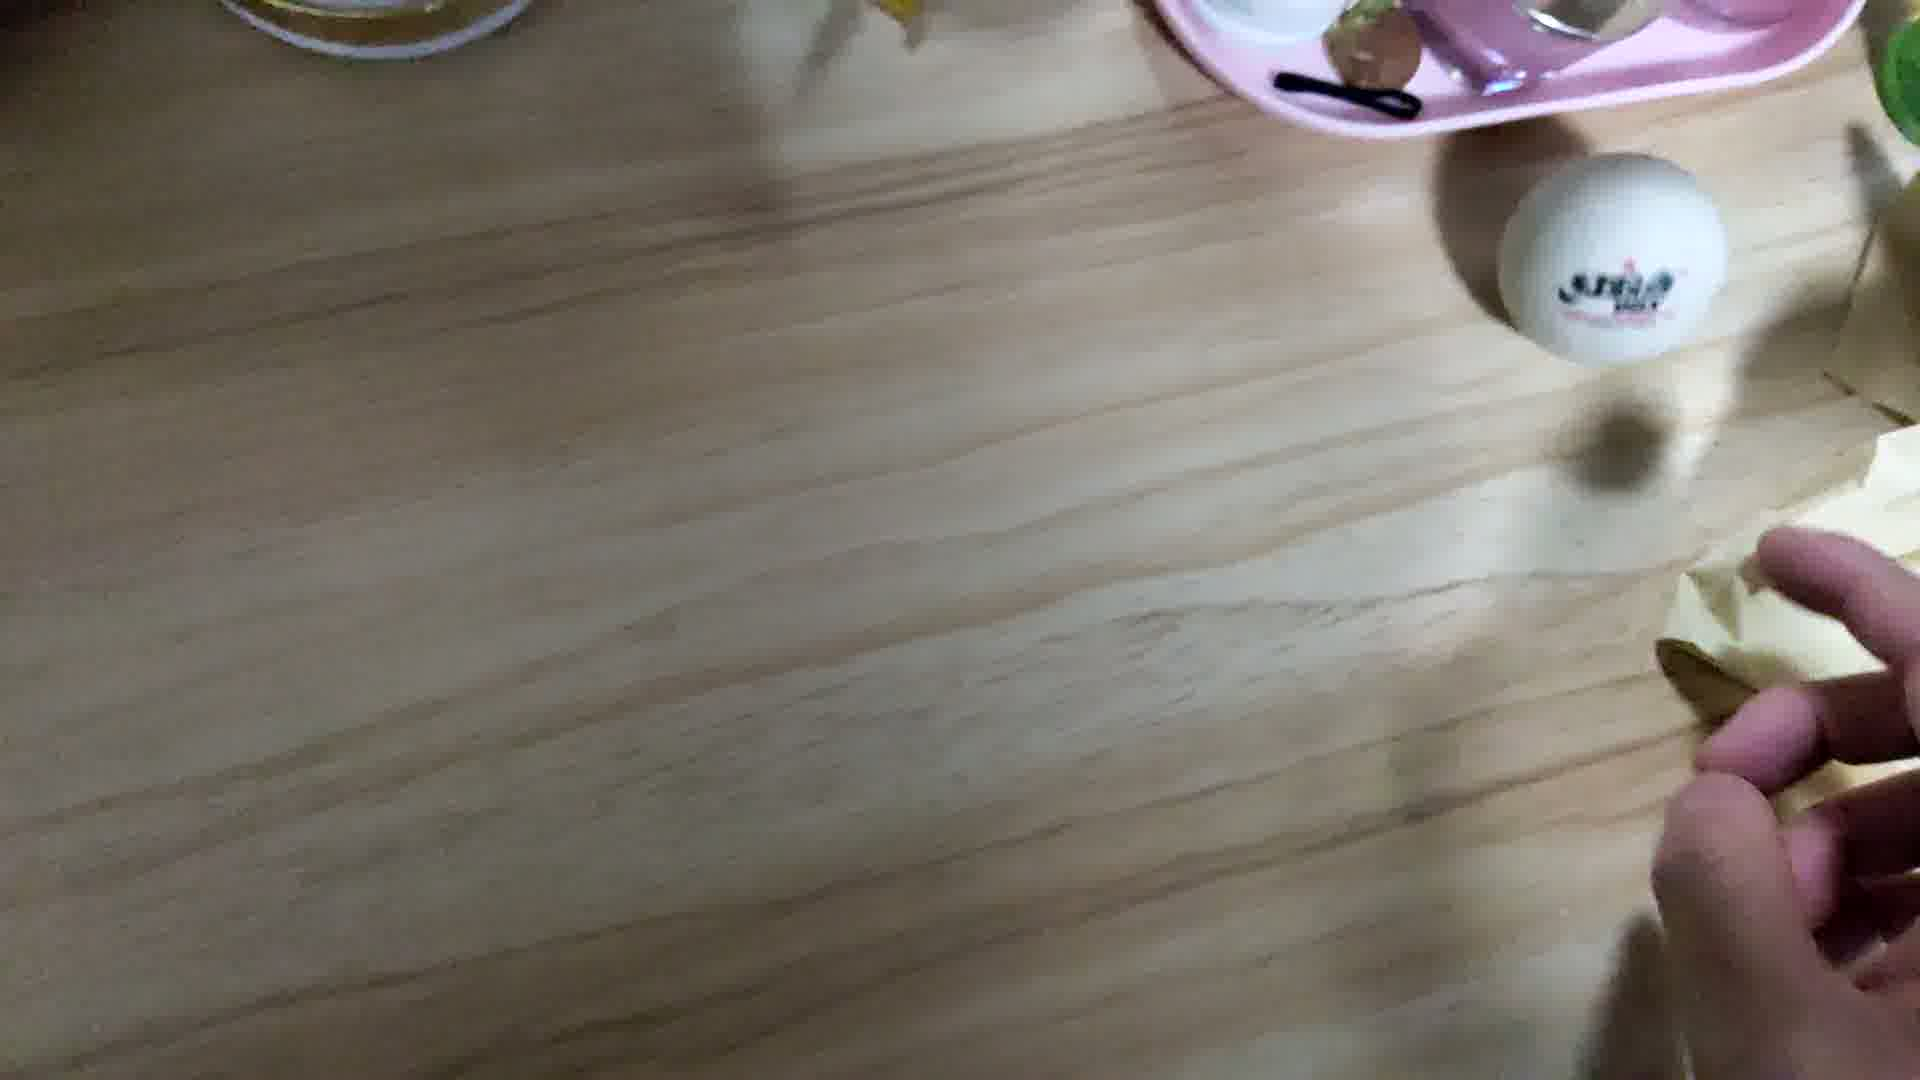Ball: (1501, 156, 1730, 369)
